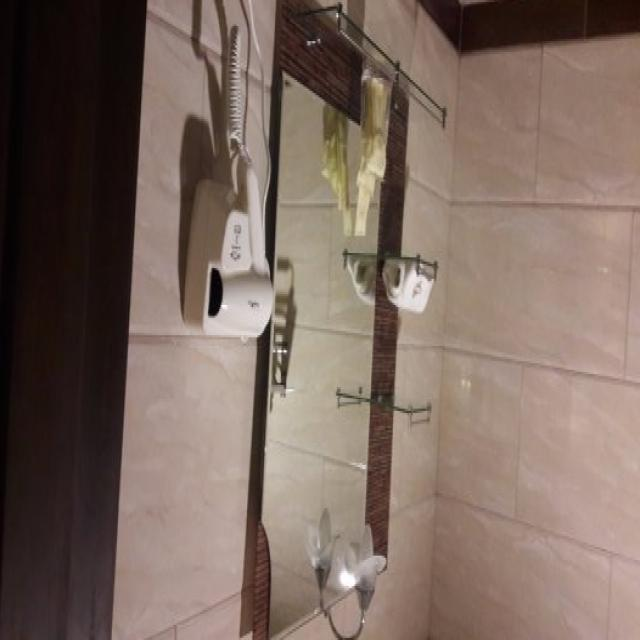dryer: (176, 21, 282, 352)
